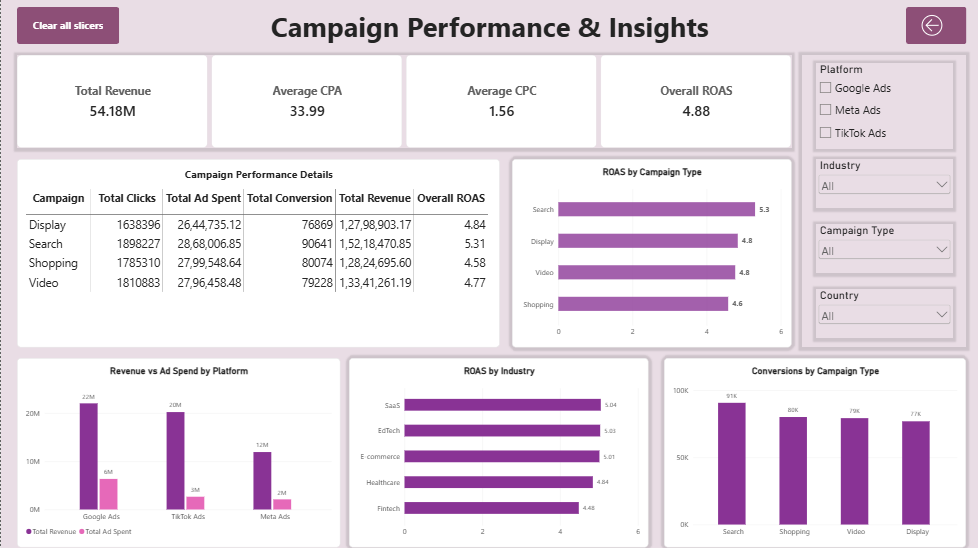

Layout of this report page (visuals, bound fields, positions):
{"tool":"powerbi","page":{"name":"Campaign Performance & Insights","canvas":[1920,1080],"ordinal":1},"visuals":[{"type":"cardVisual","fields":{"Data":["Measure Table.Total Revenue","Measure Table.Average CPA","Measure Table.Average CPC","Measure Table.Overall ROAS"]},"box":[30.9,112.4,1520.8,182.9],"z":0},{"type":"clusteredBarChart","title":"ROAS by Campaign Type","fields":{"Category":["marketing_campaign_cleaned.campaign_type"],"Y":["Measure Table.Overall ROAS"]},"box":[1002.9,315.2,548.8,370.3],"z":1000},{"type":"clusteredColumnChart","title":"Conversions by Campaign Type","fields":{"Category":["marketing_campaign_cleaned.campaign_type"],"Y":["Measure Table.Total Conversion"]},"box":[1302.6,707.5,593.1,372],"z":3000},{"type":"textbox","box":[501,17.6,918,73.4],"z":5000},{"type":"clusteredBarChart","title":"ROAS by Industry","fields":{"Category":["marketing_campaign_cleaned.industry"],"Y":["Measure Table.Overall ROAS"]},"box":[683.3,707.5,588.5,372.5],"z":7001},{"type":"clusteredColumnChart","title":"Revenue vs Ad Spend by Platform","fields":{"Category":["marketing_campaign_cleaned.platform"],"Y":["Measure Table.Total Revenue","Measure Table.Total Ad Spent"]},"box":[30.9,707.5,634.8,372.5],"z":7002},{"type":"tableEx","title":"Campaign Performance Details","fields":{"Values":["marketing_campaign_cleaned.campaign_type","Sum(marketing_campaign_cleaned.clicks)","Measure Table.Total Ad Spent","Measure Table.Total Conversion","Measure Table.Total Revenue","Measure Table.Overall ROAS"]},"box":[31,315.9,947.6,369.5],"z":7003},{"type":"shape","box":[1573.7,112.4,321.8,573.1],"z":7009},{"type":"slicer","fields":{"Values":["marketing_campaign_cleaned.industry"]},"box":[1600.2,315.2,268.9,97],"z":7011},{"type":"slicer","fields":{"Values":["marketing_campaign_cleaned.campaign_type"]},"box":[1600.2,443,268.9,97],"z":7012},{"type":"slicer","fields":{"Values":["marketing_campaign_cleaned.country"]},"box":[1600.2,570.9,268.9,97],"z":7013},{"type":"actionButton","title":"Back","box":[1776.5,17.6,119,72.7],"z":7014},{"type":"slicer","fields":{"Values":["marketing_campaign_cleaned.platform"]},"box":[1600.2,127.8,268.9,167.5],"z":7016},{"type":"actionButton","box":[30.9,17.6,200.6,72.7],"z":7017}]}

Visuals, with their boxes in screenshot pixels (x1, y1, x2, y2), scaled from the page's 1920x1080 canvas onto the 978x548 screenshot:
cardVisual - Measure Table.Total Revenue x Measure Table.Average CPA: l=16, t=57, r=790, b=150
"ROAS by Campaign Type" clusteredBarChart: l=511, t=160, r=790, b=348
"Conversions by Campaign Type" clusteredColumnChart: l=664, t=359, r=966, b=547
textbox: l=255, t=9, r=723, b=46
"ROAS by Industry" clusteredBarChart: l=348, t=359, r=648, b=547
"Revenue vs Ad Spend by Platform" clusteredColumnChart: l=16, t=359, r=339, b=547
"Campaign Performance Details" tableEx: l=16, t=160, r=498, b=348
shape: l=802, t=57, r=966, b=348
slicer - marketing_campaign_cleaned.industry: l=815, t=160, r=952, b=209
slicer - marketing_campaign_cleaned.campaign_type: l=815, t=225, r=952, b=274
slicer - marketing_campaign_cleaned.country: l=815, t=290, r=952, b=339
"Back" actionButton: l=905, t=9, r=966, b=46
slicer - marketing_campaign_cleaned.platform: l=815, t=65, r=952, b=150
actionButton: l=16, t=9, r=118, b=46
